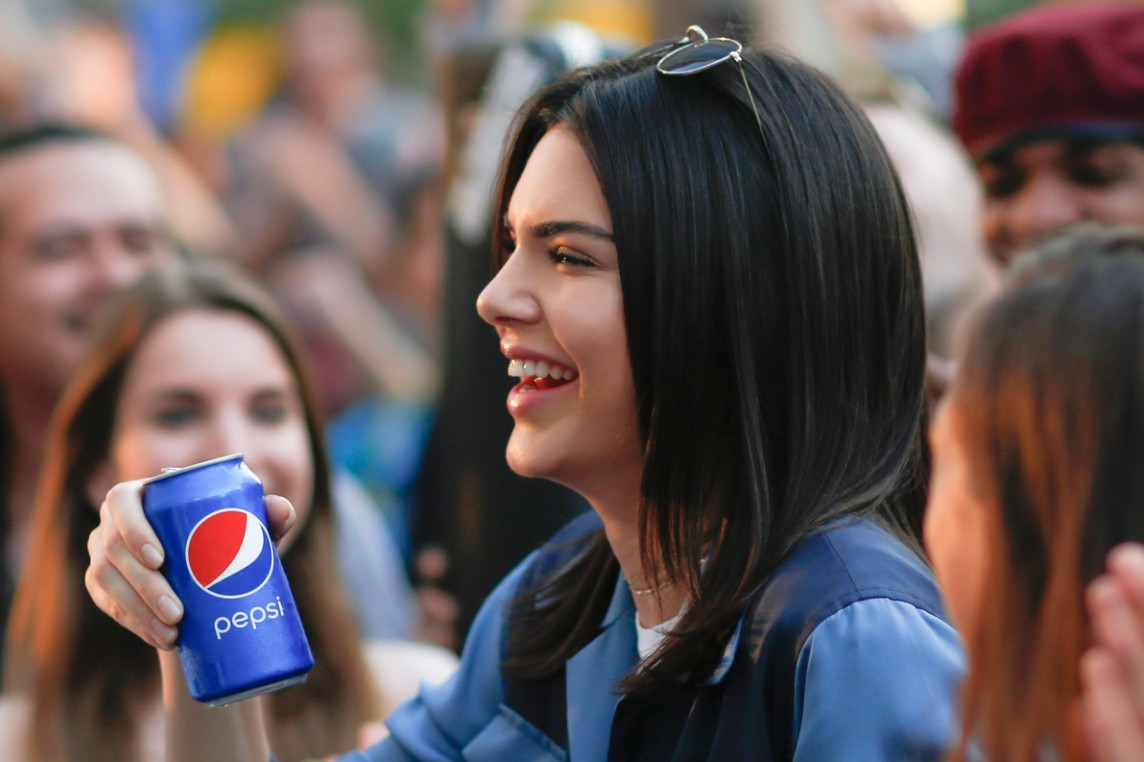pepsi: (184, 506, 275, 598)
